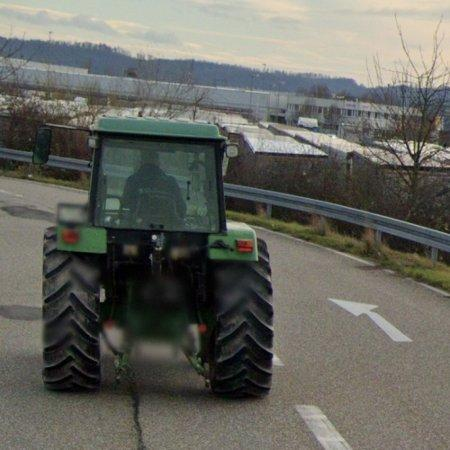tractors: (43, 117, 273, 398)
